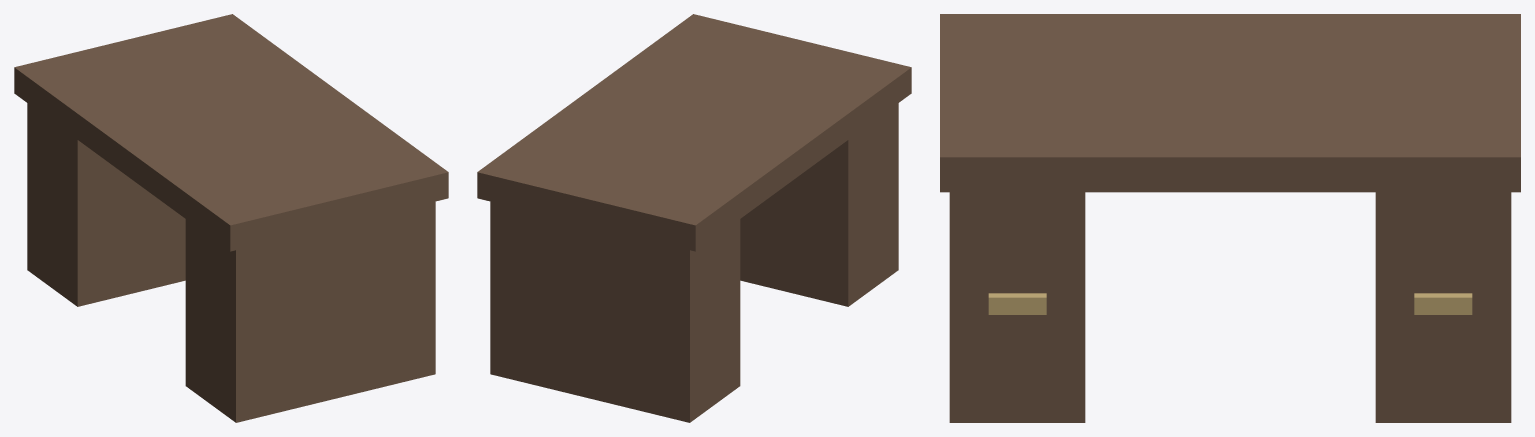
The model's file is prop_desk.fbx.
The picture shows the model from 3 angles, left to right: view 1: azimuth 30°, elevation 25°; view 2: azimuth 150°, elevation 25°; view 3: azimuth 270°, elevation 25°; orthographic projection. The views are drawn at different scales.
Parts seen in each view (by area): view 1: Desktop, DrawerBlock_-2.2, DrawerBlock_2.2; view 2: Desktop, DrawerBlock_2.2, DrawerBlock_-2.2; view 3: Desktop, DrawerBlock_-2.2, DrawerBlock_2.2, DrawerHandle_-2.2, DrawerHandle_2.2.
Part boxes in pixels (<box>): Desktop: <box>14,14,448,251</box>; DrawerBlock_-2.2: <box>185,201,435,422</box>; DrawerBlock_2.2: <box>27,103,185,306</box>; Desktop: <box>477,14,911,251</box>; DrawerBlock_2.2: <box>490,201,740,422</box>; DrawerBlock_-2.2: <box>740,103,898,306</box>; Desktop: <box>940,14,1520,192</box>; DrawerBlock_-2.2: <box>949,192,1085,422</box>; DrawerBlock_2.2: <box>1375,192,1511,422</box>; DrawerHandle_-2.2: <box>988,293,1046,314</box>; DrawerHandle_2.2: <box>1414,293,1472,314</box>.
Size of the model in its own units: 3.5 by 3.1 by 6.
